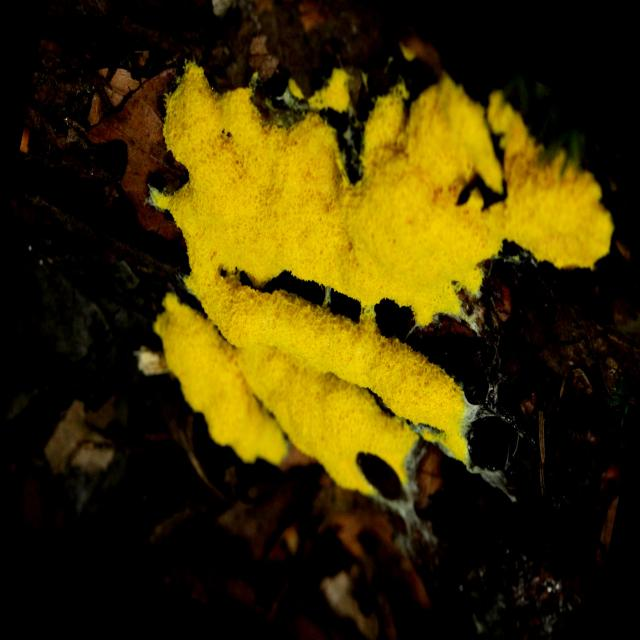Dog_vomit_slime_mold: (130, 18, 618, 491)
